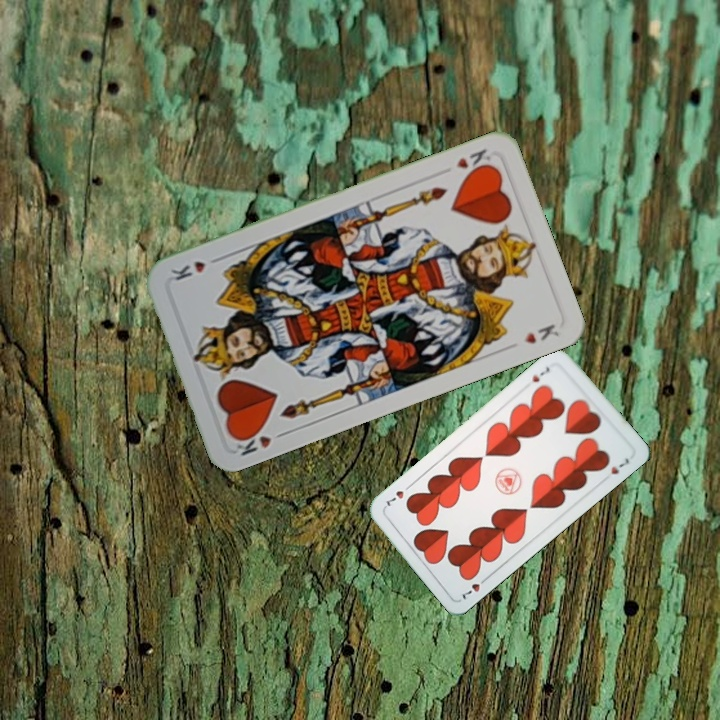H7: (458, 573, 491, 602), (527, 362, 553, 385)
HK: (231, 424, 290, 458), (452, 145, 495, 178)
